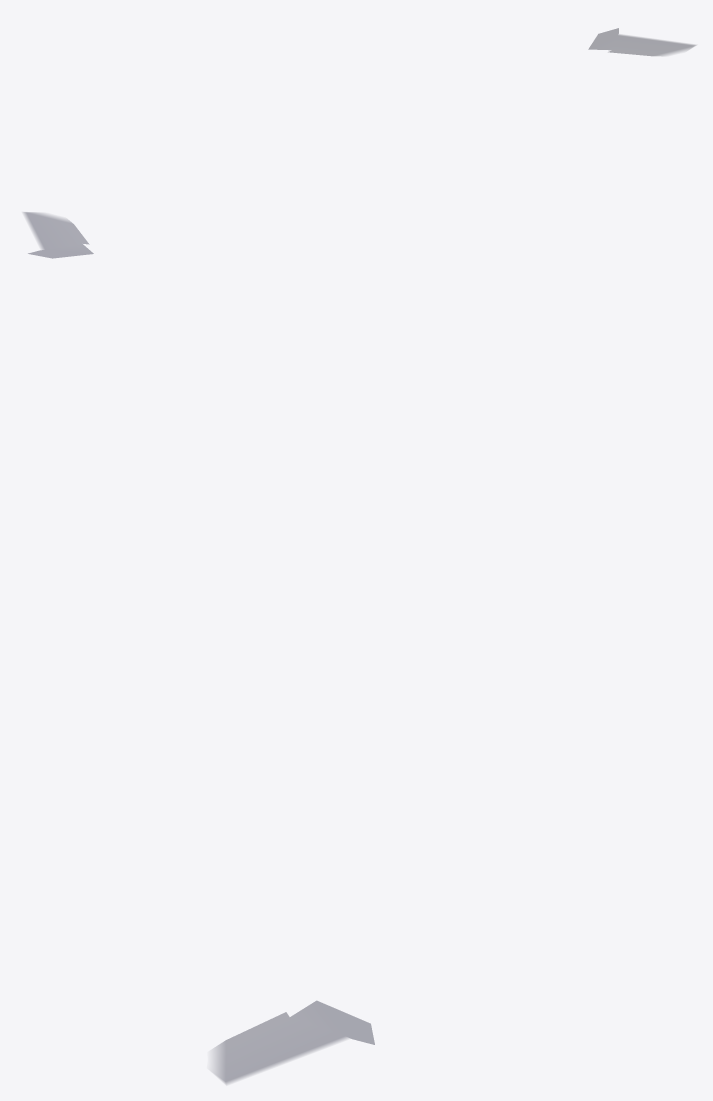
3 views of the same model, one above another, from view 1: azimuth 30°, elevation 25°; view 2: azimuth 150°, elevation 25°; view 3: azimuth 270°, elevation 25° (orthographic). The views are drawn at different scales.
Visible parts, largest first — view 1: Joint_0_Object_1; view 2: Joint_0_Object_1; view 3: Joint_0_Object_1.
Boxes of the visible parts, x1,y1,x2,y2 form: Joint_0_Object_1: [588, 28, 695, 55]; Joint_0_Object_1: [23, 212, 93, 258]; Joint_0_Object_1: [214, 1001, 374, 1084].
Bounding box in the file's own units: 1696 × 0.5 × 349.
Materials: 1 (1 with a texture image).
